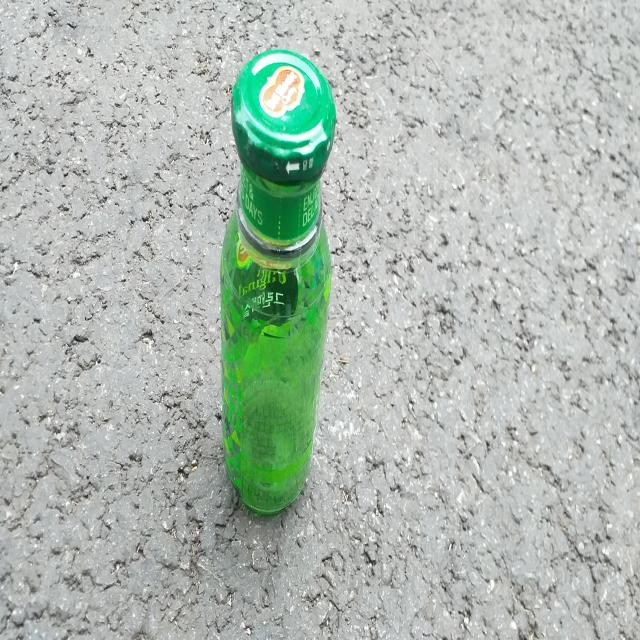glass: (221, 47, 336, 515)
